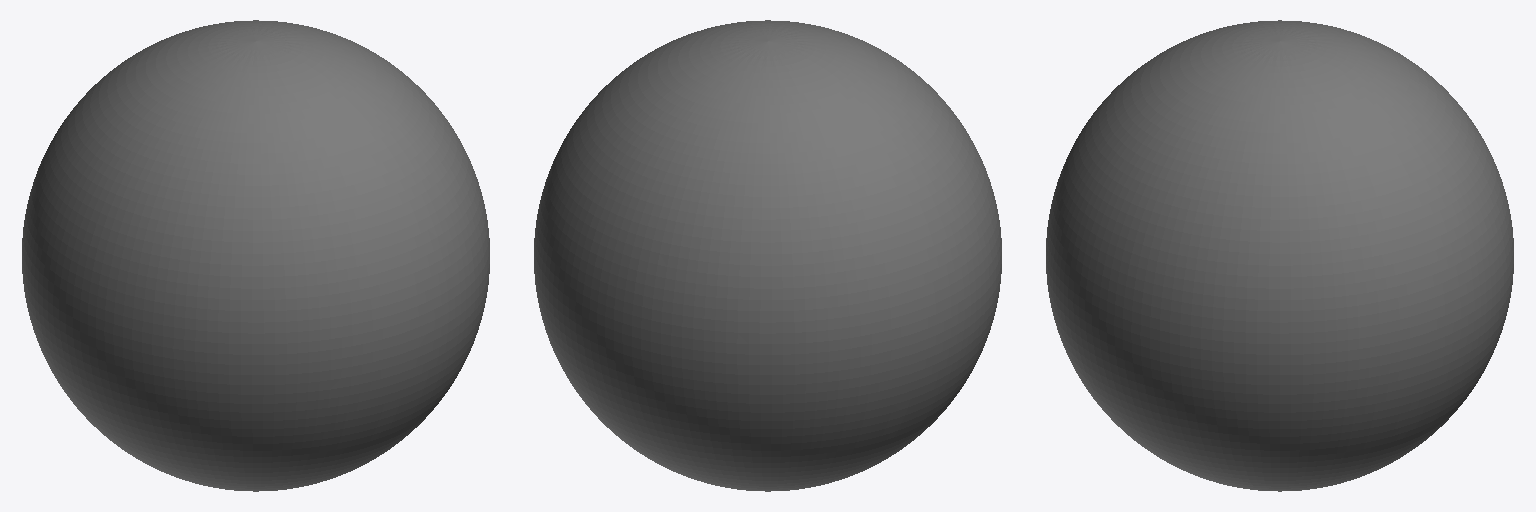
URDF robot description (ball_weight_z-0-4):
<?xml version="1.0"?>
<robot name="ball_weight_z-0-4">
  <link name="base">
    <visual>
      <geometry>
        <mesh filename="ball_weight_z-0-4.obj" scale="1 1 1"/>
      </geometry>
      <material name="gray">
        <color rgba="0.5 0.5 0.5 1.0"/>
      </material>
    </visual>
    <collision>
      <geometry>
        <mesh filename="ball_weight_z-0-4.obj" scale="1 1 1"/>
      </geometry>
    </collision>
    <inertial>
      <mass value="1.000"/>
      <inertia
          ixx="0.026264" ixy="0.000000" ixz="0.000000"
          iyy="0.026264" iyz="0.000000"
          izz="0.025990"/>
      <origin xyz="0.000000 0.000000 0.623852" rpy="0 0 0"/>
    </inertial>
  </link>
</robot>

--- Render facts (derived) ---
The picture shows the robot from 3 angles, left to right: view 1: azimuth 30°, elevation 25°; view 2: azimuth 150°, elevation 25°; view 3: azimuth 270°, elevation 25°; orthographic projection.
Robot: ball_weight_z-0-4 — 1 links, 0 joints (none); root link base; default pose: every joint at zero.
Visible links, largest first — view 1: base; view 2: base; view 3: base.
Link boxes in pixels (<box>): base: <box>22,20,489,491</box>; base: <box>534,20,1001,491</box>; base: <box>1046,20,1513,491</box>.
Bounding box of the posed robot: 0.3949 × 0.3949 × 0.399 m (x, y, z).
Meshes: 1 distinct files referenced, 1 mesh visuals loaded (1 OBJ).
